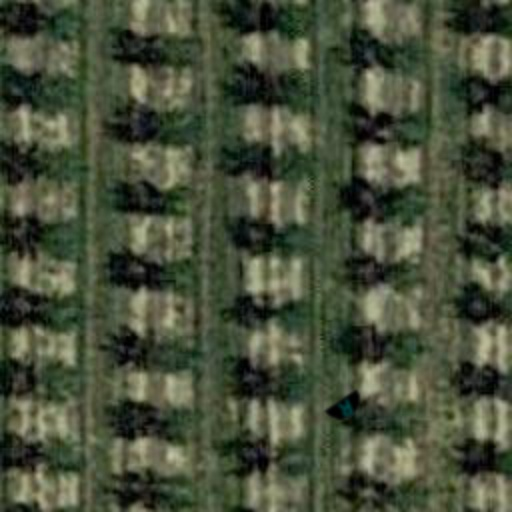semicircle: (318, 380, 374, 436)
